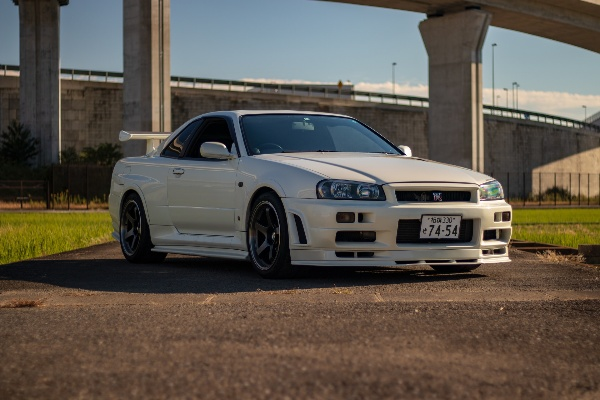licence: (418, 210, 466, 238)
